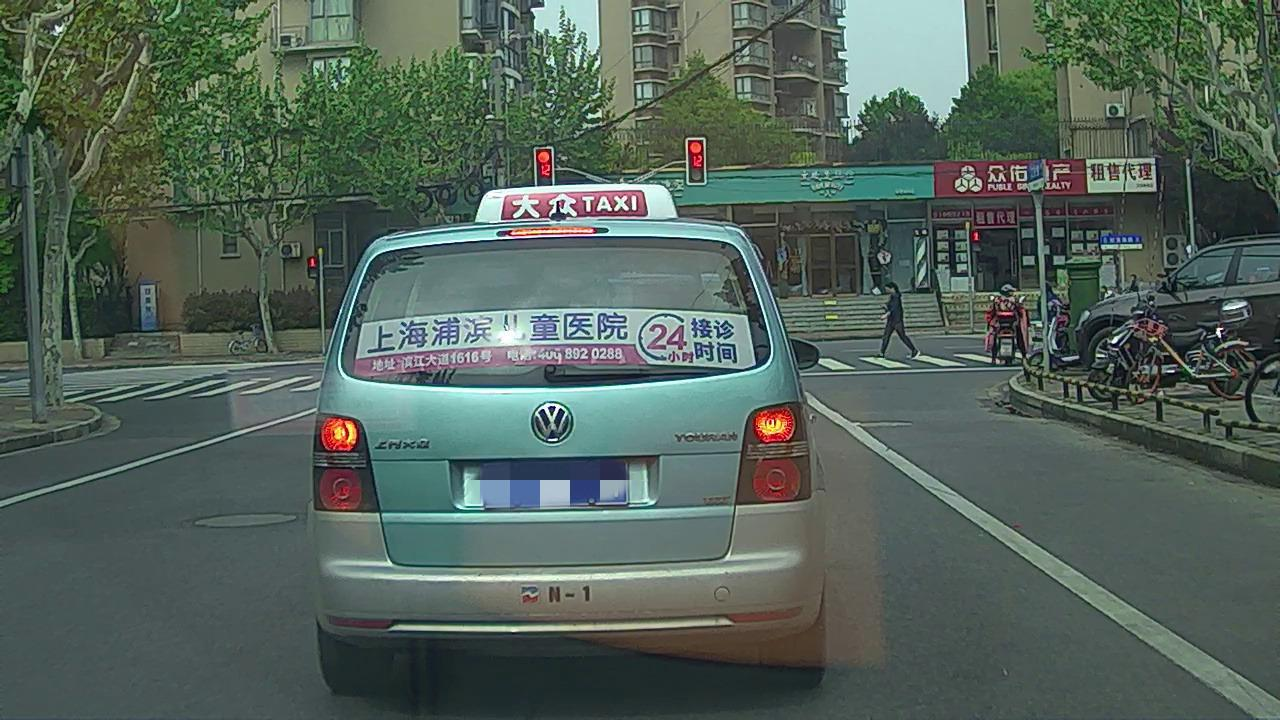traffic_light: (688, 140, 705, 183), (535, 149, 551, 186)
